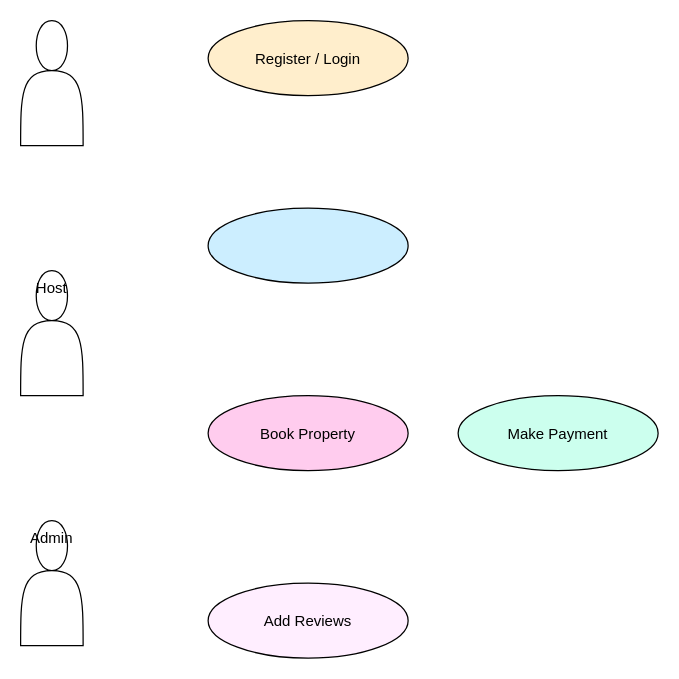
Some shapes in this 679 by 679 pixel diagram are drawn without their labels. Here are the shapes that lost their labels. From the top down, the centre of each, then its label:
At point 51,82: "Guest".
At point 307,245: "Manage Properties".
